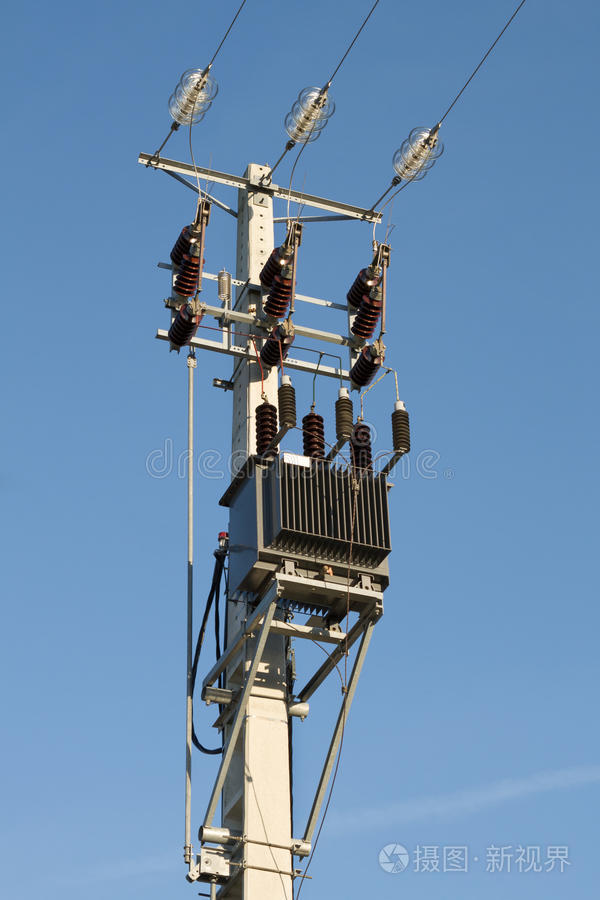insulator: (394, 127, 446, 185), (168, 66, 218, 125), (283, 87, 332, 141), (254, 403, 280, 452), (351, 296, 381, 337), (174, 253, 200, 297), (265, 275, 291, 317), (303, 416, 328, 459), (350, 426, 372, 468)
